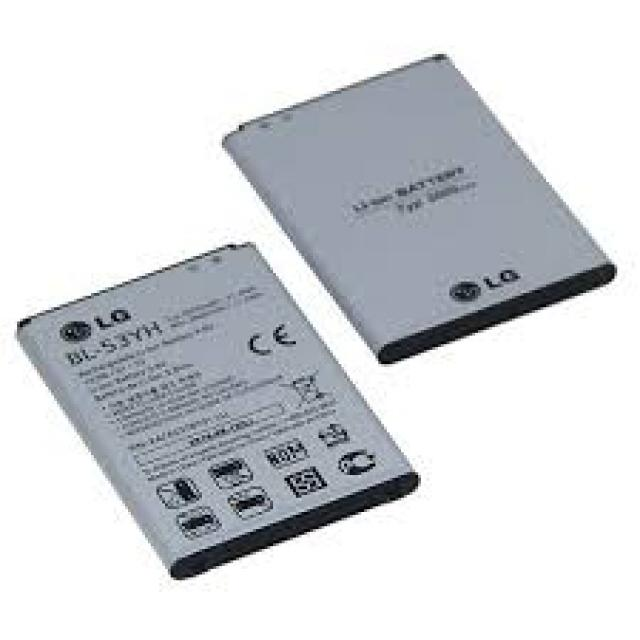non-organic waste: (16, 243, 419, 584), (226, 54, 616, 367)
